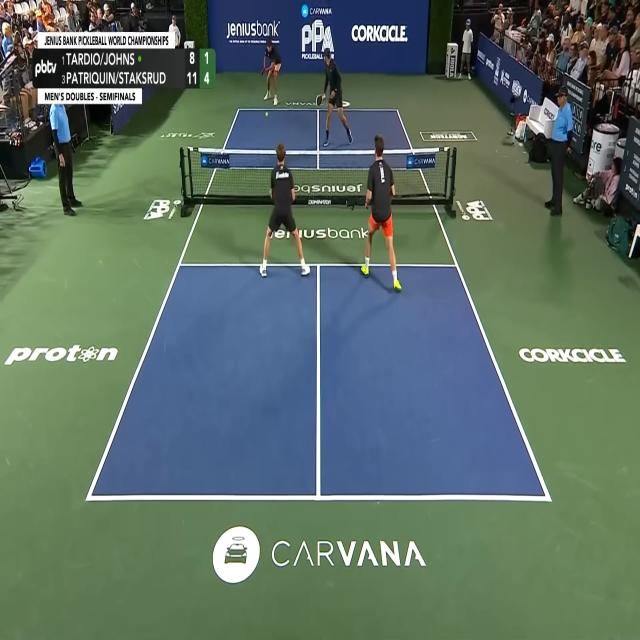ball: (265, 111, 269, 118)
